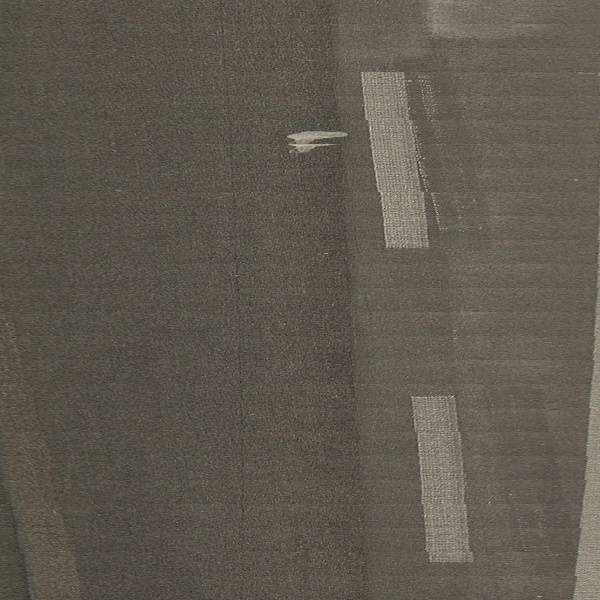road_damage: (284, 125, 351, 154)
